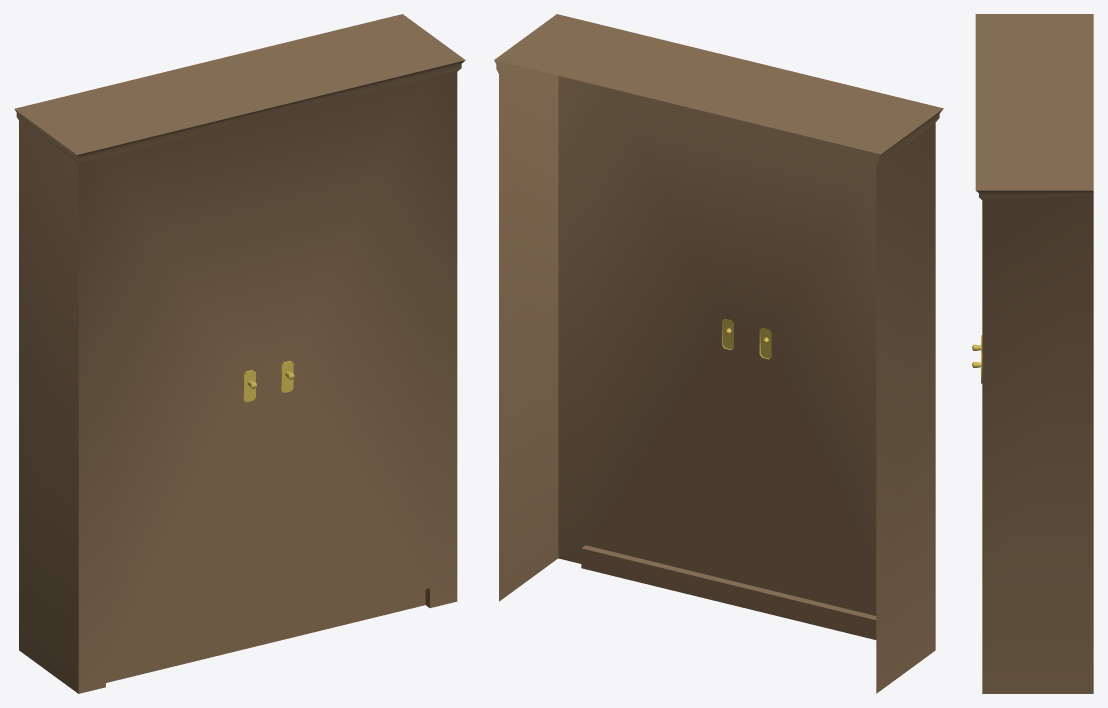
Rendered from prop_armario.fbx.
3 renders of one model, left to right at view 1: azimuth 30°, elevation 25°; view 2: azimuth 150°, elevation 25°; view 3: azimuth 270°, elevation 25°, orthographic. The views are drawn at different scales.
Parts seen in each view (by area): view 1: prop_armario; view 2: prop_armario; view 3: prop_armario.
Boxes of the visible parts, <box> form: prop_armario: <box>14,14,465,693</box>; prop_armario: <box>494,14,943,693</box>; prop_armario: <box>972,14,1093,693</box>.
Bounding box in the file's own units: 188 × 251 × 54.53.
